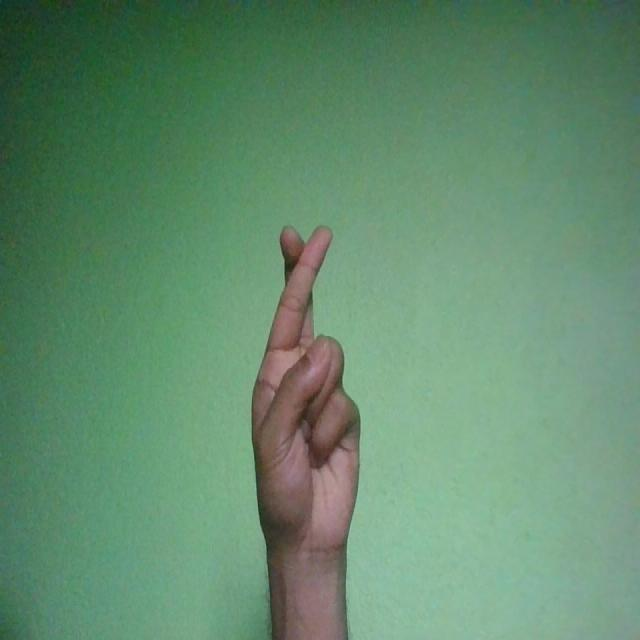Ok: (252, 222, 361, 566)
